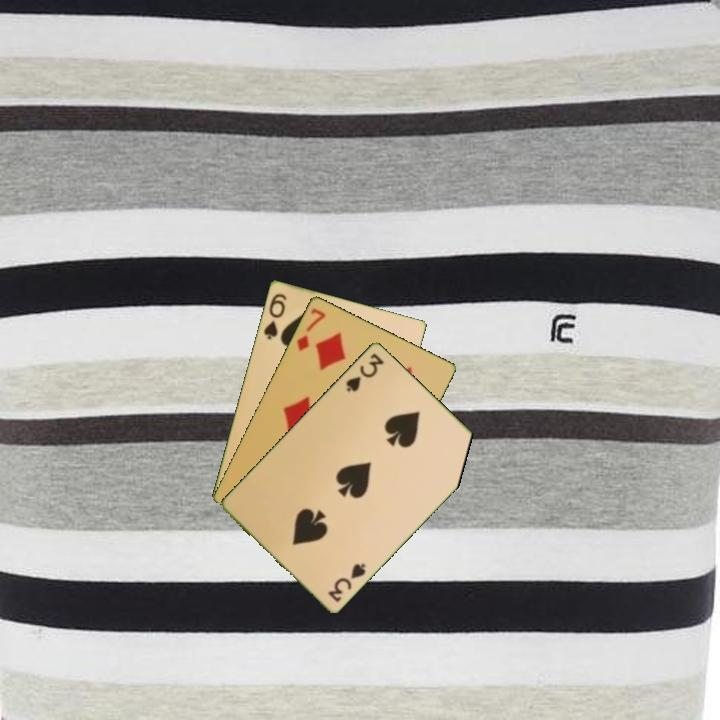3s: (324, 559, 369, 605), (342, 349, 387, 394)
6s: (260, 289, 290, 342)
7d: (293, 304, 328, 354)
